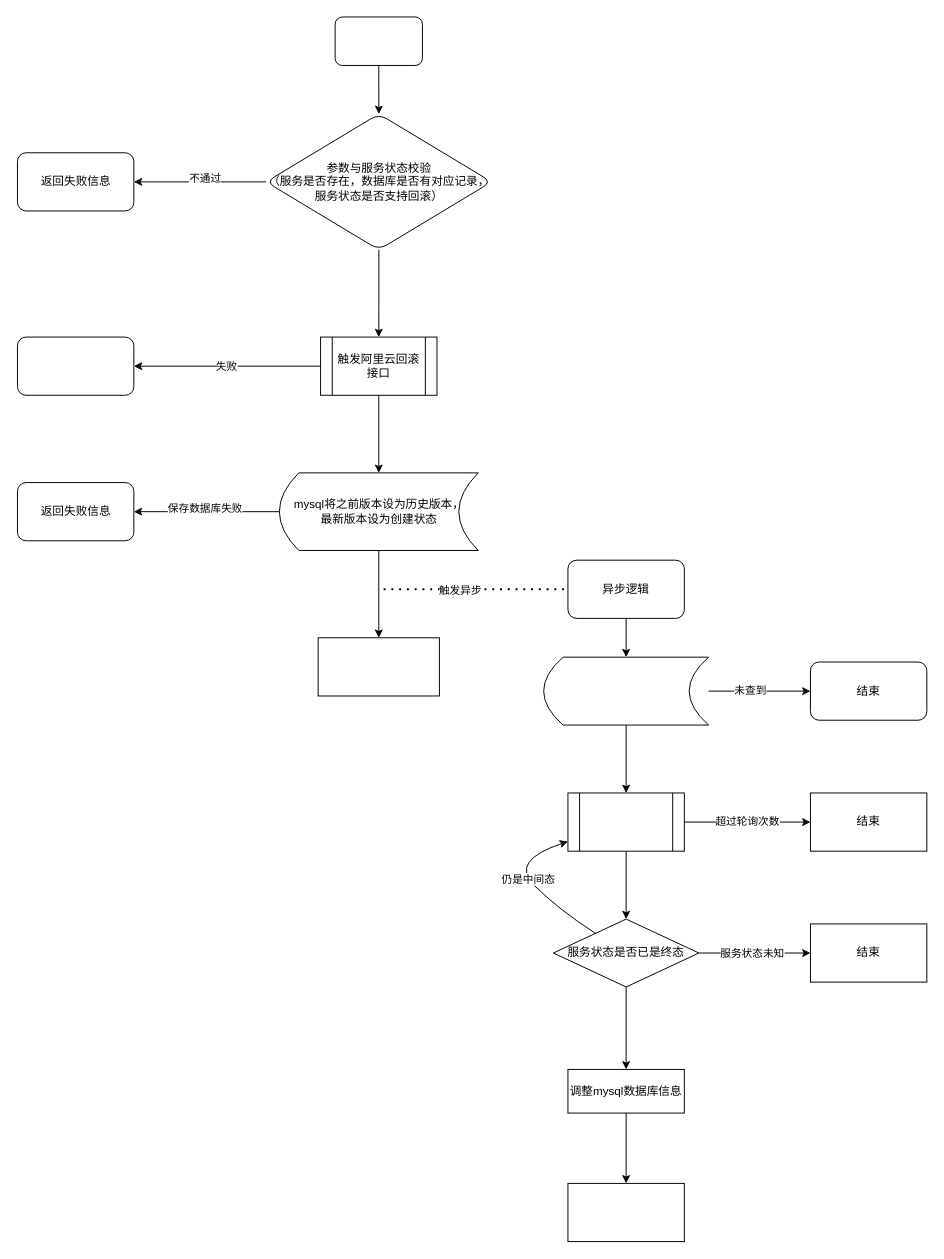
Some shapes in this 944 by 1259 pixel diagram are drawn without their labels. Here are the shapes that lost their labels. From the top down, the centre of each, then its label:
At (x=378, y=40): "回滚接口触发".
At (x=75, y=365): "返回触发失败".
At (x=378, y=666): "返回触发回滚成功信息".
At (x=626, y=690): "mysql获取对应数据信息".
At (x=625, y=821): "查询阿里云服务状态".
At (x=625, y=1212): "完全结束".
